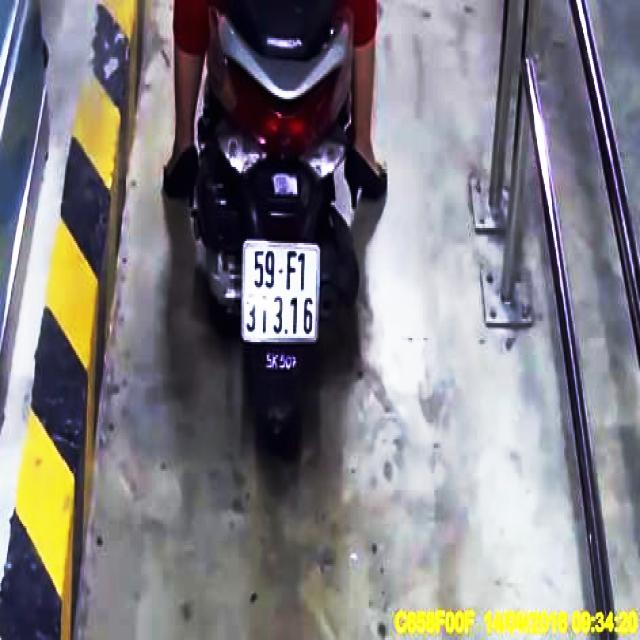license_plate: (244, 240, 322, 342)
